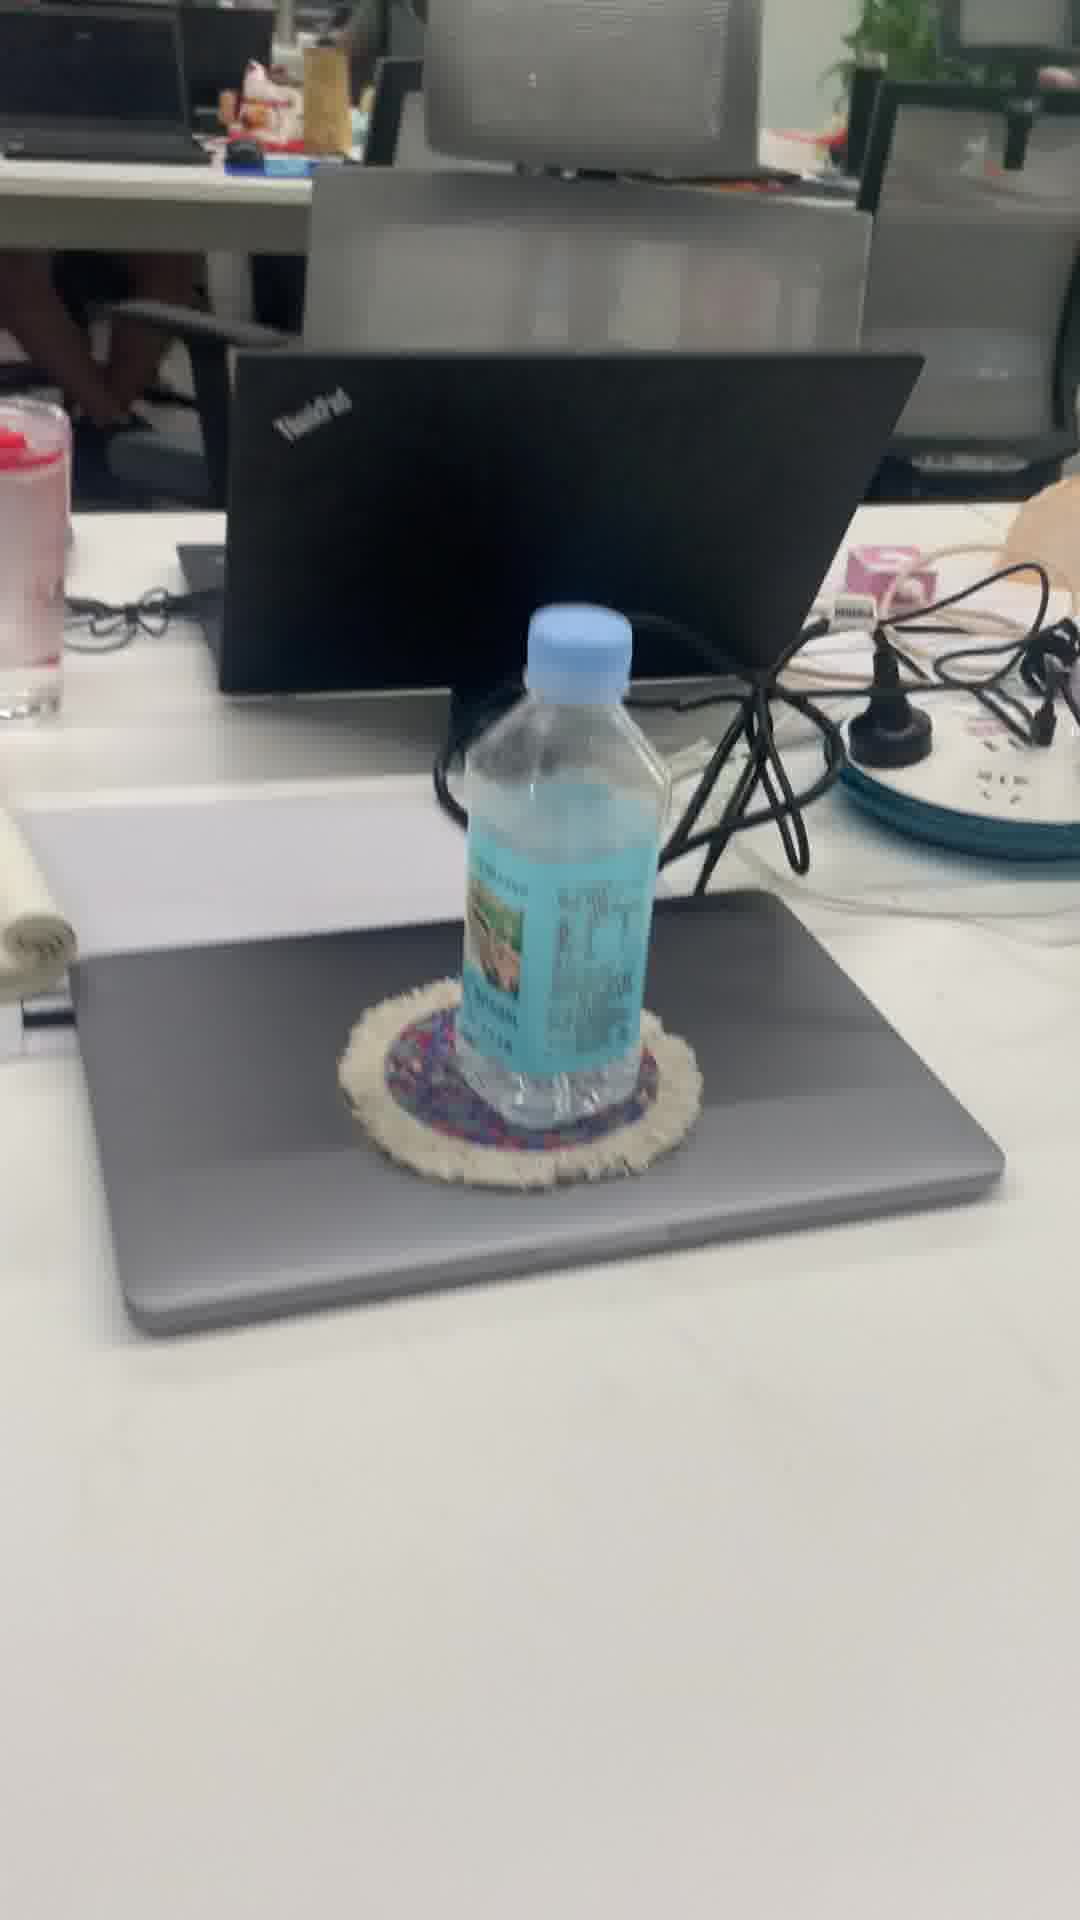水瓶: (454, 593, 661, 1142)
